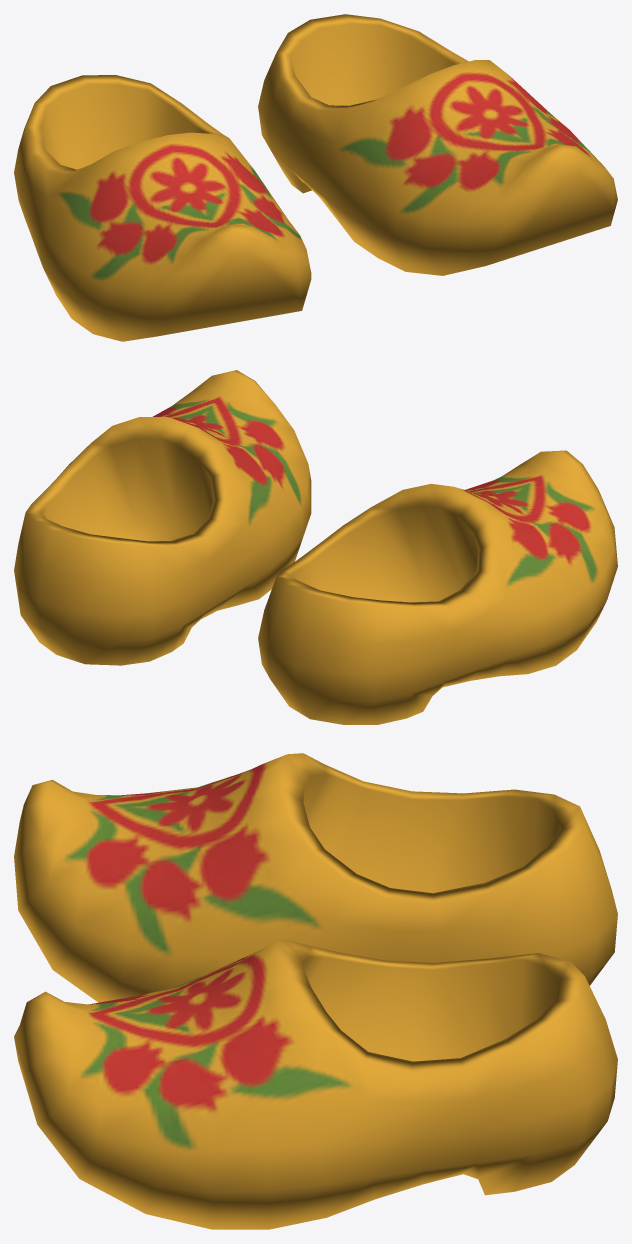
File: ShoesLowcutClog0.glb
3 views of the same model, one above another, from view 1: azimuth 30°, elevation 25°; view 2: azimuth 150°, elevation 25°; view 3: azimuth 270°, elevation 25° (orthographic). The views are drawn at different scales.
Visible parts, largest first — view 1: Body__mShoes; view 2: Body__mShoes; view 3: Body__mShoes.
Part boxes in pixels (x1,y1,x2,y2): Body__mShoes: (14,14,617,341); Body__mShoes: (14,370,617,724); Body__mShoes: (14,753,617,1229).
Bounding box in the file's own units: 3.4 × 0.9917 × 2.57.
Materials: 1 (1 with a texture image).
